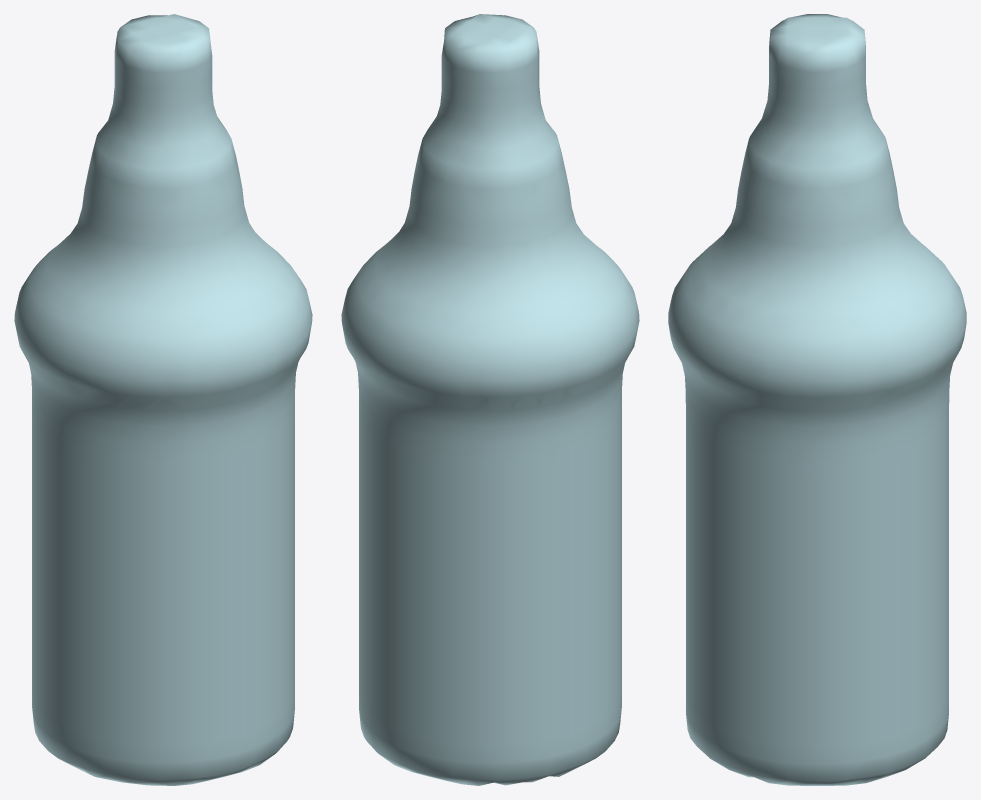
File: bottle.glb
3 views of the same model, side by side, from view 1: azimuth 30°, elevation 25°; view 2: azimuth 150°, elevation 25°; view 3: azimuth 270°, elevation 25° (orthographic).
Parts seen in each view (by area): view 1: Bottle; view 2: Bottle; view 3: Bottle.
Boxes of the visible parts, <box> form: Bottle: <box>14,14,312,785</box>; Bottle: <box>341,14,639,785</box>; Bottle: <box>668,14,966,785</box>.
Size of the model in its own units: 0.0724 by 0.19 by 0.0724.
